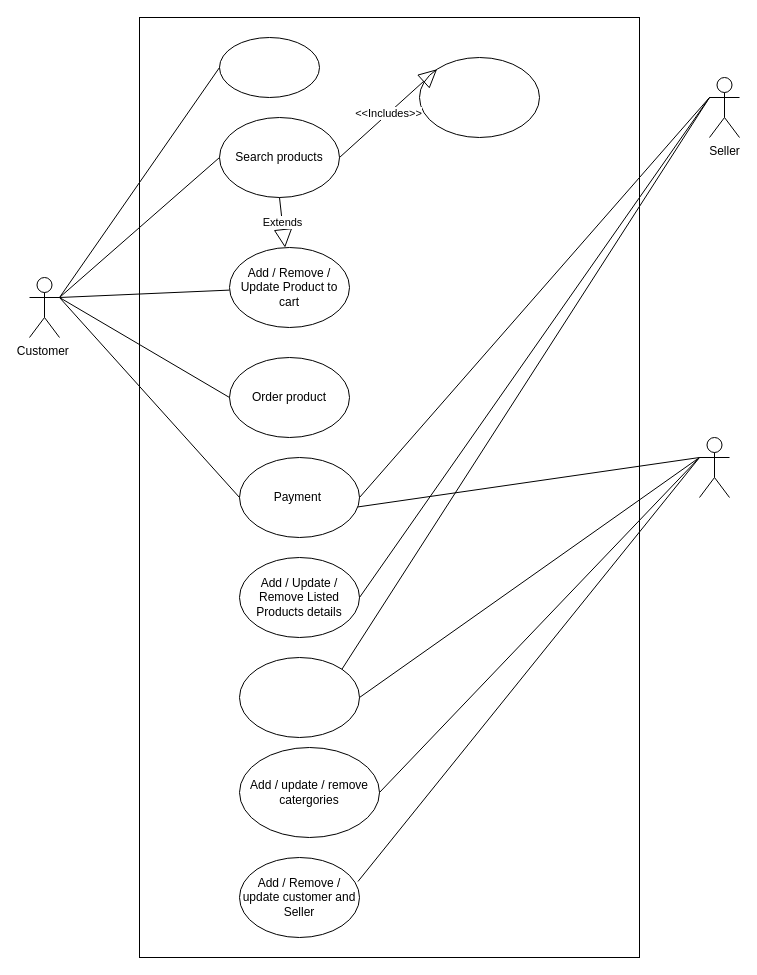
Some shapes in this 757 by 975 pixel diagram are drawn without their labels. Each missing label, with the centre of its shape:
Admin: the point at 714,467
Deliver Products: the point at 299,697
Login / Logout: the point at 269,67
See search results: the point at 479,97
